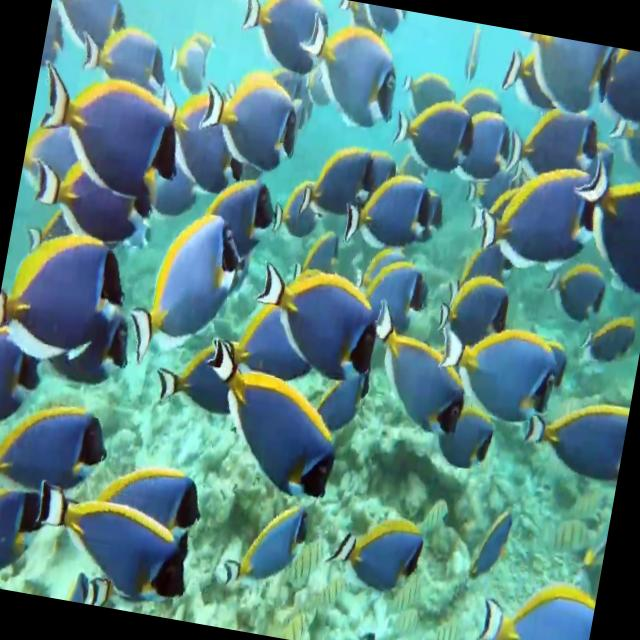fish: (190, 340, 348, 503), (26, 70, 187, 205), (124, 200, 250, 369), (26, 482, 198, 604), (0, 227, 133, 373), (248, 258, 388, 388), (357, 305, 478, 451), (476, 150, 604, 282), (426, 318, 564, 431), (294, 10, 408, 126), (0, 393, 112, 506), (146, 81, 252, 198), (196, 66, 304, 172), (505, 95, 609, 202), (150, 317, 254, 424), (28, 154, 144, 248), (521, 386, 630, 486), (563, 156, 640, 285), (222, 498, 314, 598), (342, 164, 439, 250), (329, 512, 424, 596), (233, 0, 335, 77), (516, 32, 610, 113), (473, 579, 596, 640), (391, 92, 479, 175), (436, 266, 512, 360), (202, 169, 280, 259), (444, 109, 524, 192), (78, 19, 168, 92), (297, 142, 378, 222), (362, 255, 434, 342), (43, 0, 131, 58), (462, 502, 518, 592), (540, 254, 606, 322), (397, 68, 465, 132), (435, 405, 496, 475), (270, 172, 326, 242), (601, 47, 640, 130), (332, 0, 410, 38), (166, 31, 215, 90)
